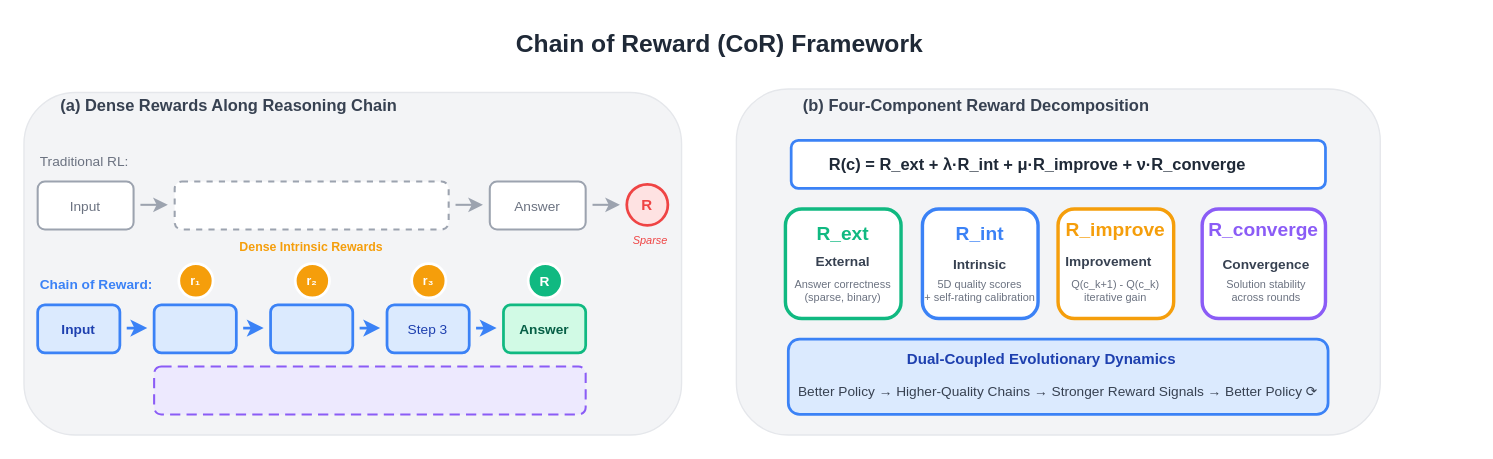
This 1493x459 diagram has some shape labels left out. Each missing label, with the centre of its shape:
"[Self-Rating: Consistency=8, Completeness=9, Accuracy=7, Clarity=8]" goes at (369,390).
"Step 1" goes at (194,328).
"Step 2" goes at (311,328).
"Thinking Chain" goes at (311,205).
